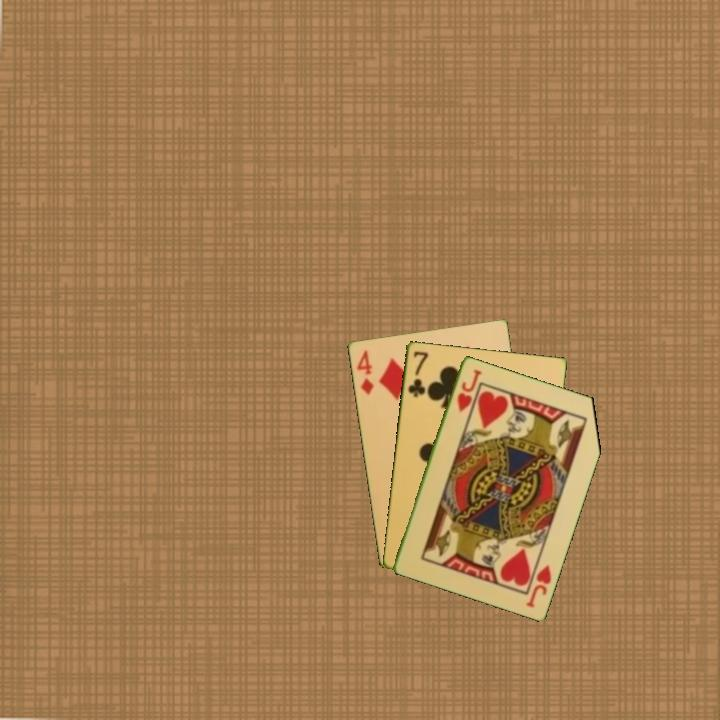4d: (353, 346, 376, 398)
7c: (404, 347, 431, 400)
Jh: (522, 561, 554, 610), (453, 365, 484, 415)
